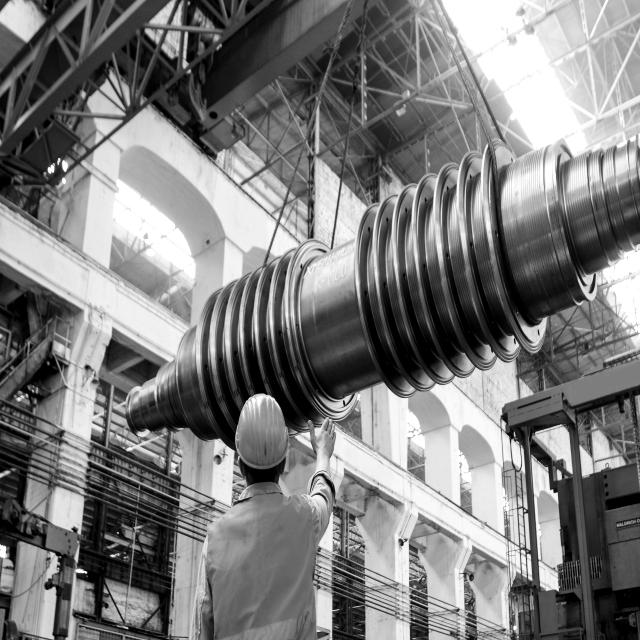Vest: (207, 494, 318, 640)
